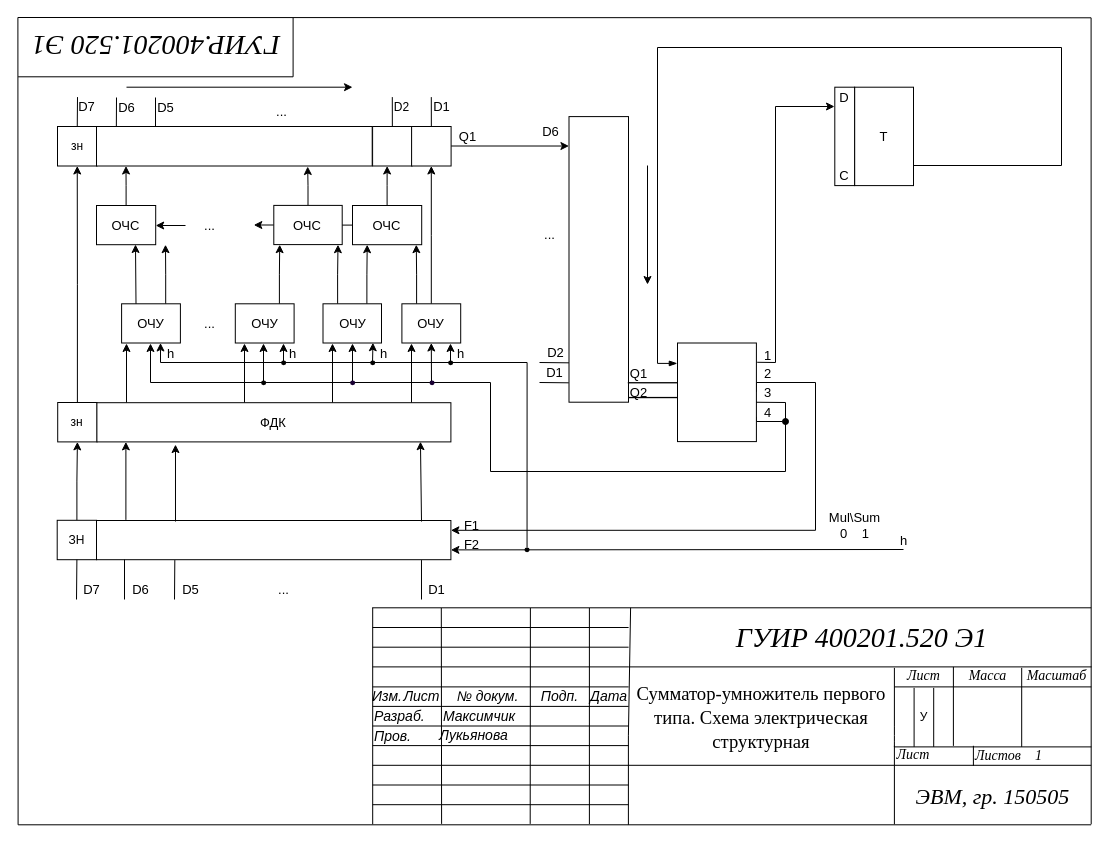
Image size: 1110x844. Some labels were removed from this diagram. Each missing label, with the centre of its shape:
АККУМУЛЯТОР: (x=234, y=146)
преобразова- тель множимого: (x=716, y=392)
Р Е Г И С Т Р М Н О Ж И Т Е Л Я: (x=598, y=259)
РЕГИСТР МНОЖИМОГО: (x=273, y=540)
